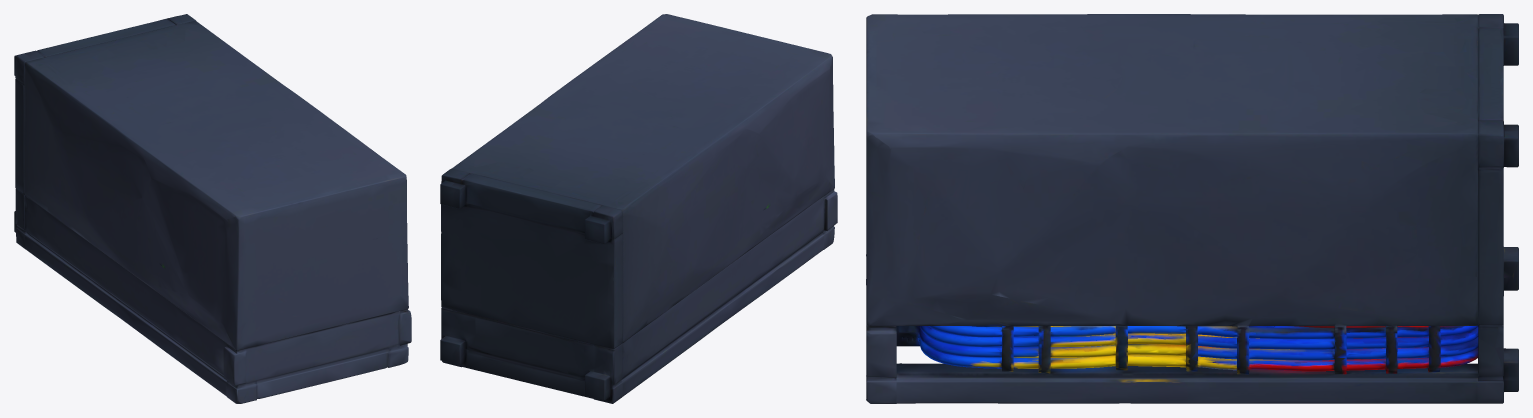
File: server_rack.glb
3 renders of one model, left to right at view 1: azimuth 30°, elevation 25°; view 2: azimuth 150°, elevation 25°; view 3: azimuth 270°, elevation 25°, orthographic. The views are drawn at different scales.
Visible parts, largest first — view 1: server_rack; view 2: server_rack; view 3: server_rack.
Boxes of the visible parts, x1,y1,x2,y2 form: server_rack: (14,14,411,403); server_rack: (440,14,837,403); server_rack: (866,14,1518,403).
Size of the model in its own units: 0.939 by 0.9309 by 2.
1 material, 1 textured.
